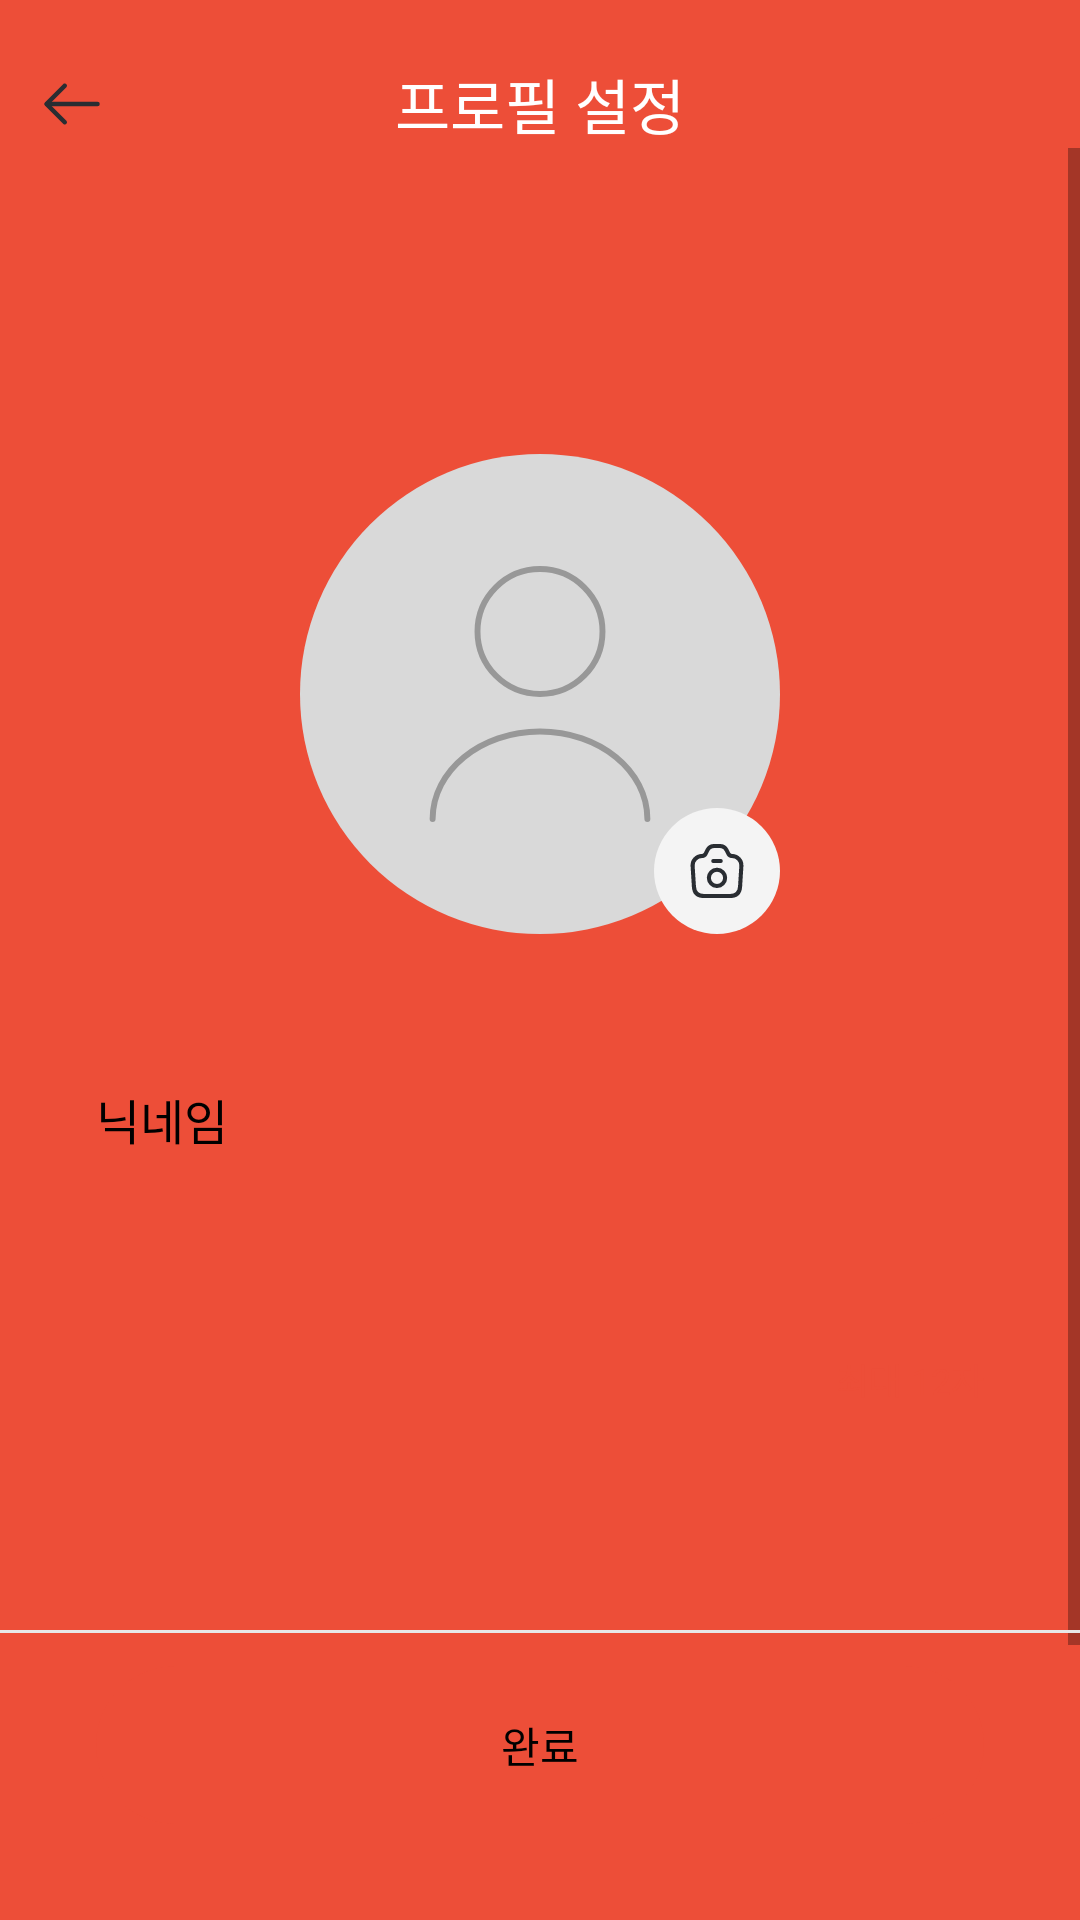

Where icons sit on this 1080w x 1920h app screen, as bbox=[x1, y1, x2, y2]:
arrow left: bbox=[44, 83, 100, 125]
camera: bbox=[654, 808, 780, 934]
user: bbox=[430, 566, 650, 822]
